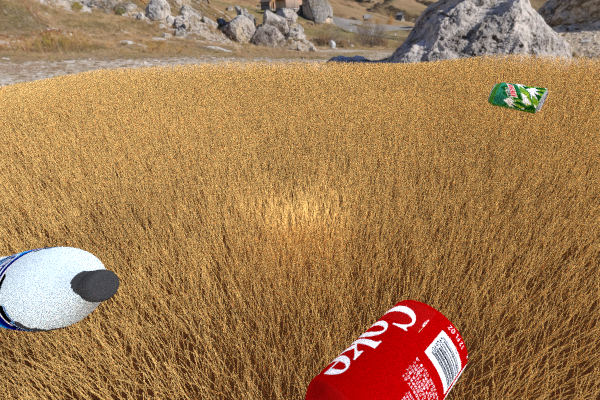bottle: (0, 246, 119, 331)
can: (296, 299, 467, 400), (487, 82, 548, 113)
